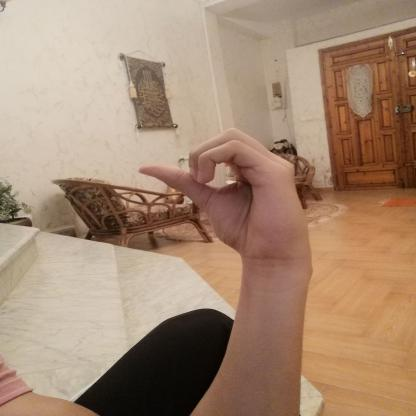WAW: (126, 121, 324, 270)
